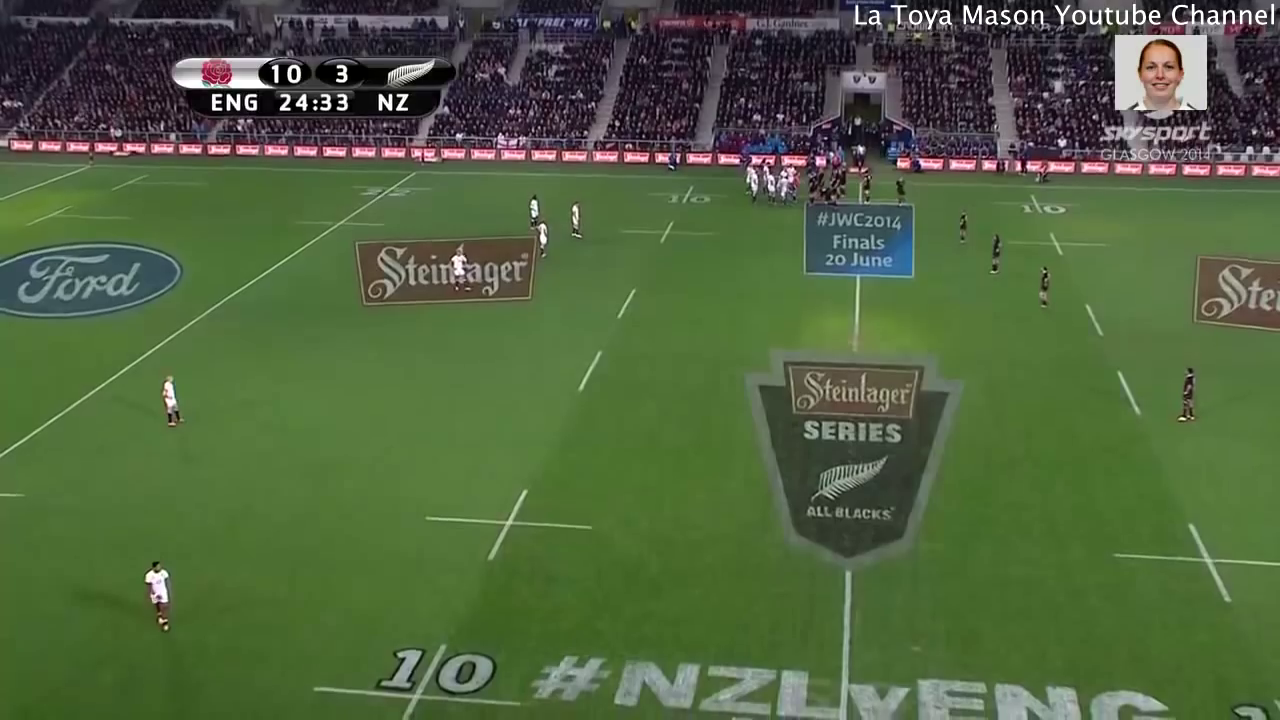10_metre: (301, 641, 534, 720), (1109, 516, 1280, 604), (421, 488, 596, 566), (614, 220, 723, 249), (1009, 231, 1111, 256), (995, 191, 1081, 220), (638, 185, 728, 211)
player: (141, 555, 182, 636), (155, 369, 193, 430), (1177, 365, 1199, 427), (447, 242, 469, 297), (565, 198, 589, 241), (985, 230, 1005, 278), (1038, 261, 1054, 309), (533, 220, 553, 258), (953, 208, 972, 244), (892, 175, 911, 209), (837, 164, 852, 206), (862, 170, 876, 212), (525, 191, 540, 224), (775, 175, 790, 206), (748, 170, 760, 206), (803, 175, 816, 206), (766, 176, 779, 206), (819, 186, 836, 207), (760, 162, 769, 193), (745, 164, 752, 192)
